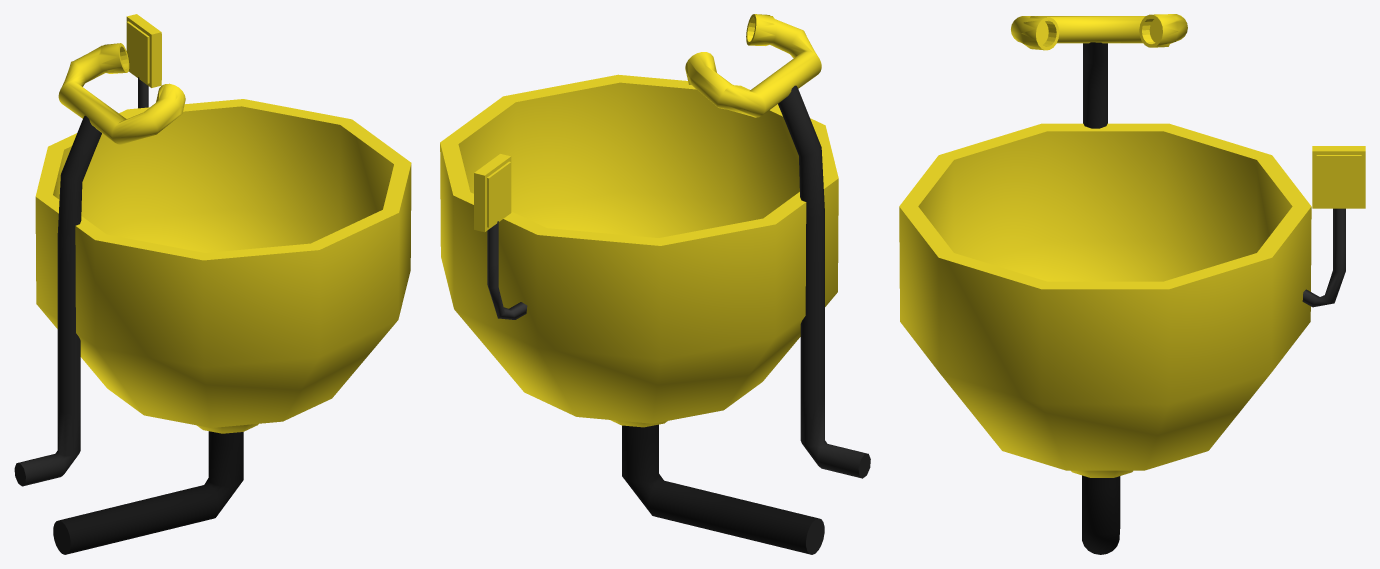
Rendered from mod_laboratory_eye_shower.FBX.
3 renders of one model, left to right at view 1: azimuth 30°, elevation 25°; view 2: azimuth 150°, elevation 25°; view 3: azimuth 270°, elevation 25°, orthographic. The views are drawn at different scales.
Visible parts, largest first — view 1: mod_laboratorium_eye_shower; view 2: mod_laboratorium_eye_shower; view 3: mod_laboratorium_eye_shower.
Boxes of the visible parts, bbox=[...] form: mod_laboratorium_eye_shower: bbox=[14, 14, 411, 554]; mod_laboratorium_eye_shower: bbox=[440, 14, 870, 554]; mod_laboratorium_eye_shower: bbox=[899, 14, 1365, 554].
Size of the model in its own units: 14.1 by 17.34 by 14.5.
